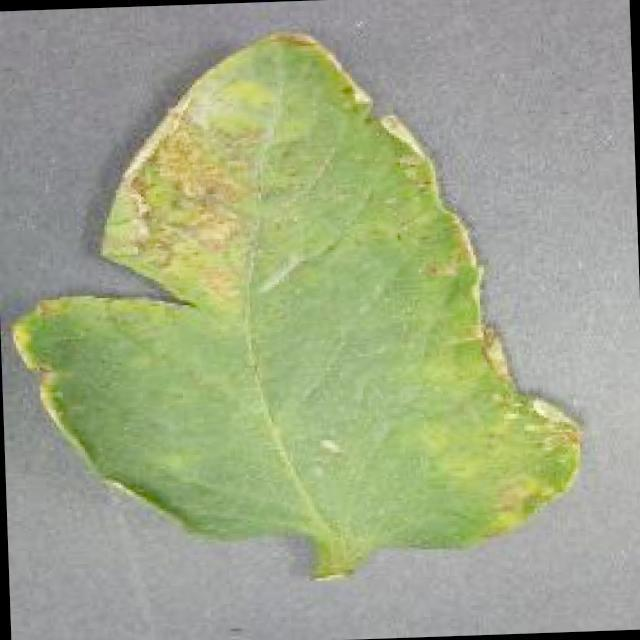Tomato bacterial spot leaf: (0, 9, 589, 569)
